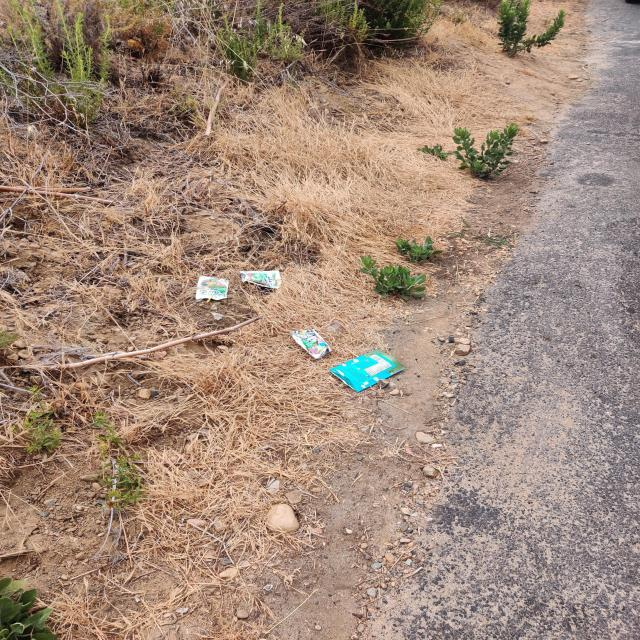litter: (329, 349, 405, 393), (289, 329, 332, 359), (239, 270, 283, 289), (195, 277, 228, 301)
